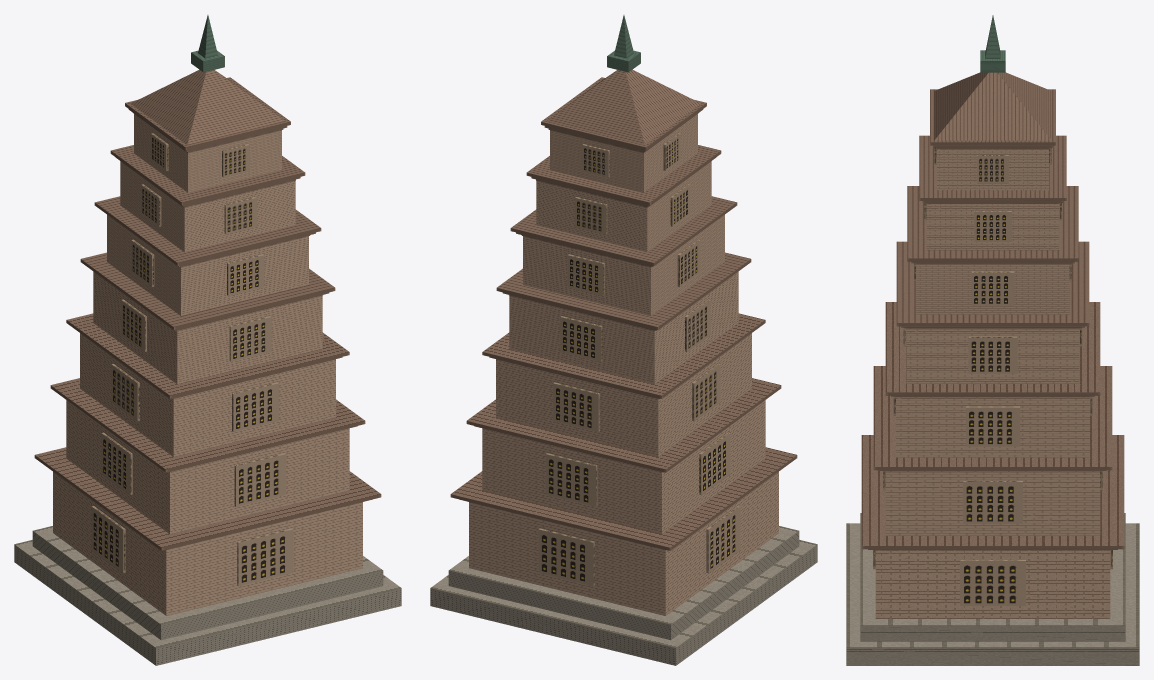
The model's file is landmark_giant_wild_goose_pagoda.glb.
3 renders of one model, left to right at view 1: azimuth 30°, elevation 25°; view 2: azimuth 150°, elevation 25°; view 3: azimuth 270°, elevation 25°, orthographic. The views are drawn at different scales.
Parts seen in each view (by area): view 1: Landmark_Giant_Wild_Goose_Pagoda; view 2: Landmark_Giant_Wild_Goose_Pagoda; view 3: Landmark_Giant_Wild_Goose_Pagoda.
Boxes of the visible parts, x1=… form: Landmark_Giant_Wild_Goose_Pagoda: x1=14, y1=15, x2=401, y2=665; Landmark_Giant_Wild_Goose_Pagoda: x1=430, y1=15, x2=817, y2=665; Landmark_Giant_Wild_Goose_Pagoda: x1=846, y1=15, x2=1139, y2=665.
Size of the model in its own units: 11.5 by 25.5 by 11.5.
1 material, 1 textured.
